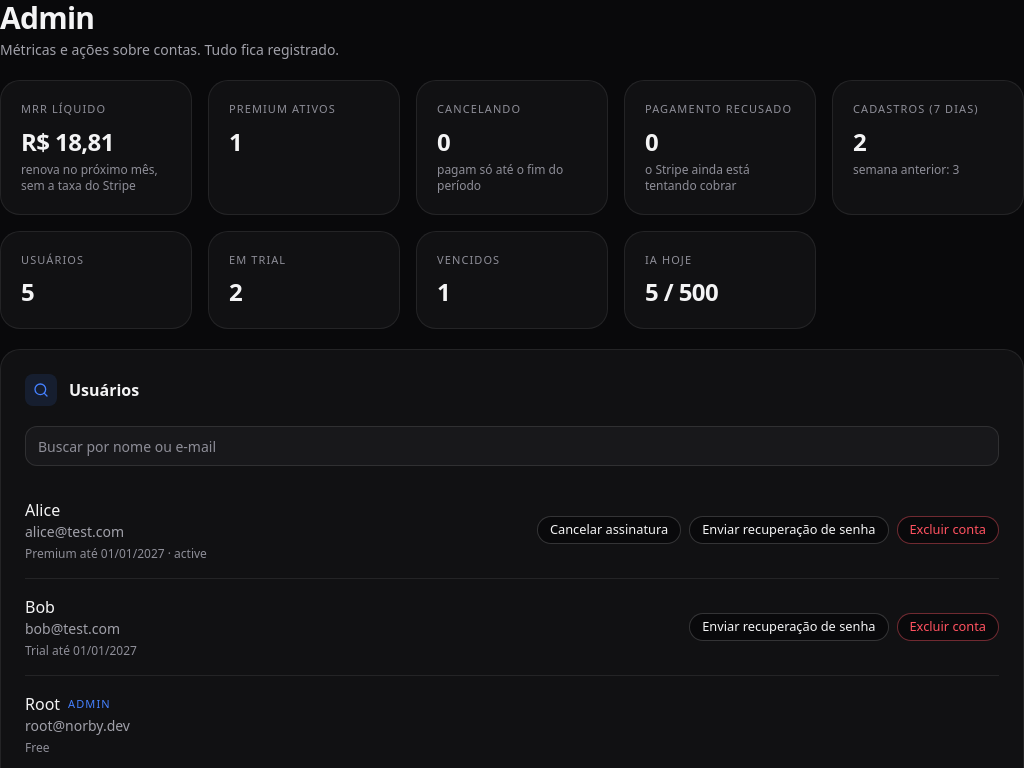
Test: Admin › filtra por nome ou e-mail
Expected: the text "alice@test.com" is shown, [25,522,124,541]
Type "bob@" into the field named "Buscar usuário" at [512, 446], box [25,426,999,466]
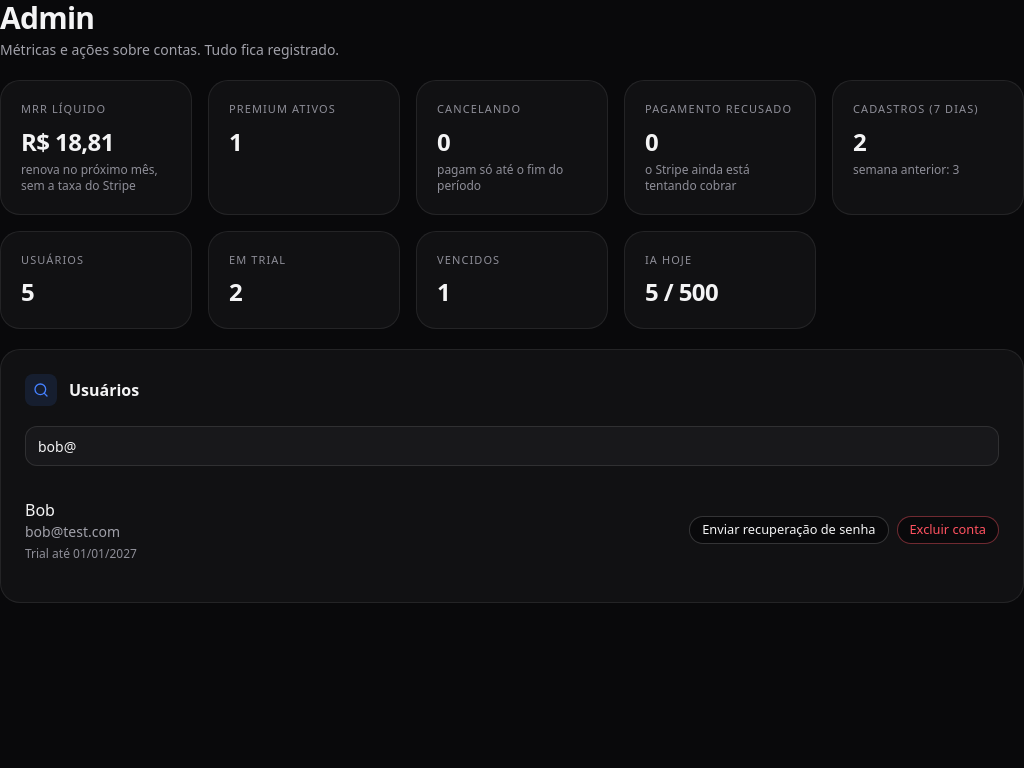
Expected: the text "bob@test.com" is shown, [25,522,120,541]
Expected: the text "alice@test.com" is gone
